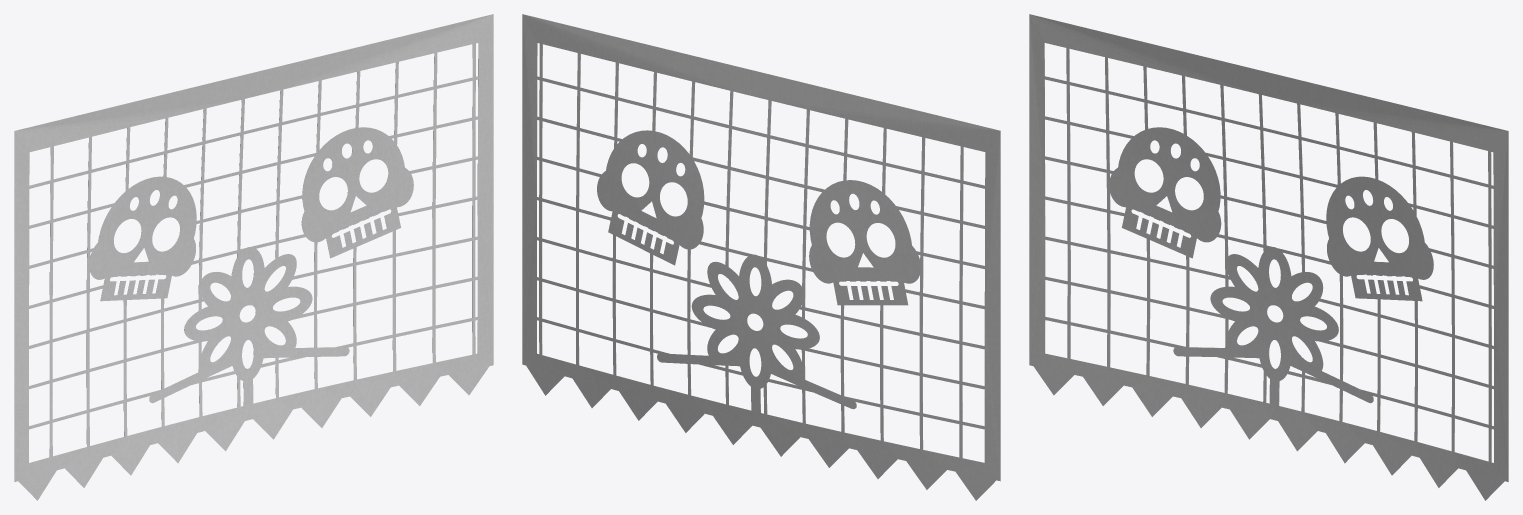
File: papel_6.gltf
3 renders of one model, left to right at view 1: azimuth 30°, elevation 25°; view 2: azimuth 150°, elevation 25°; view 3: azimuth 330°, elevation 25°, orthographic.
Parts seen in each view (by area): view 1: papel_6; view 2: papel_6; view 3: papel_6.
Boxes of the visible parts, left/top/right/bottom form: papel_6: left=14, top=14, right=493, bottom=500; papel_6: left=522, top=14, right=1000, bottom=500; papel_6: left=1029, top=14, right=1508, bottom=500.
Bounding box in the file's own units: 0.4 × 0.3 × 0.00915.
Materials: 1 (1 with a texture image).
